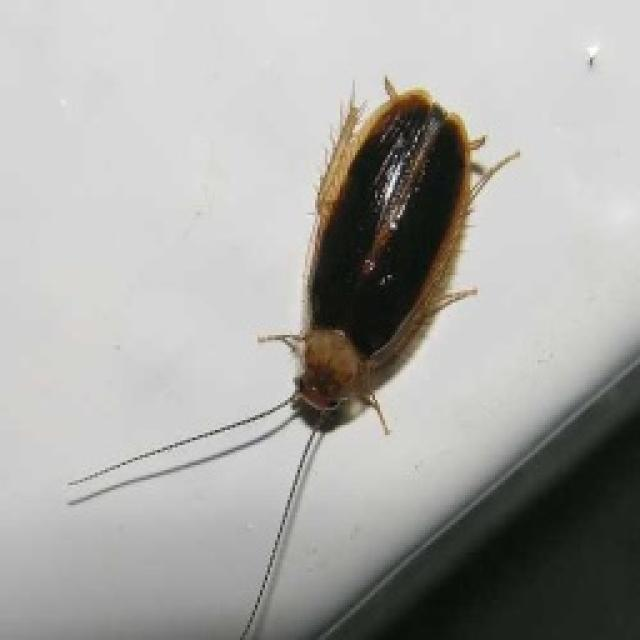cockroach: (84, 31, 547, 596)
